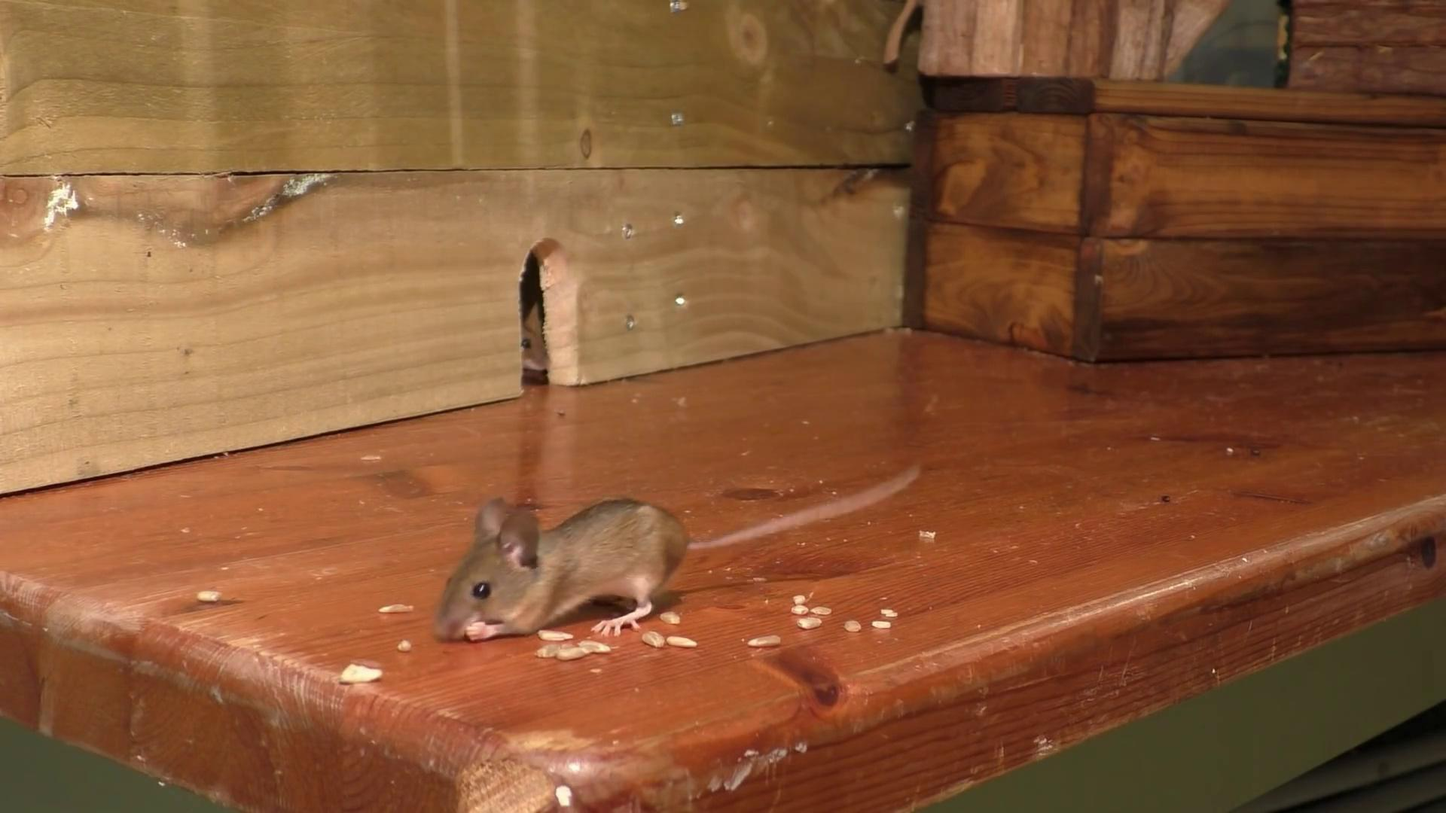rat: (436, 469, 918, 639), (517, 303, 551, 373)
